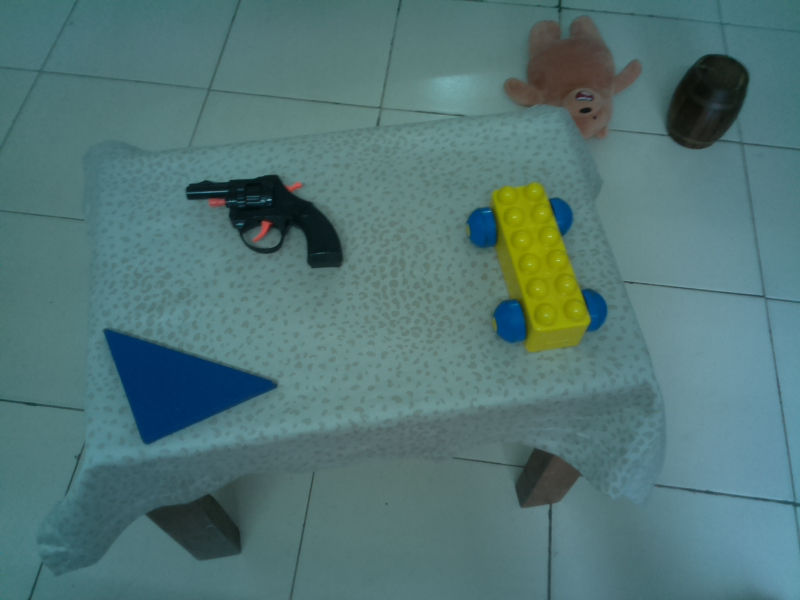Gun: (180, 169, 349, 274)
Triangle: (102, 327, 281, 442)
toy_Car: (467, 184, 609, 351)
